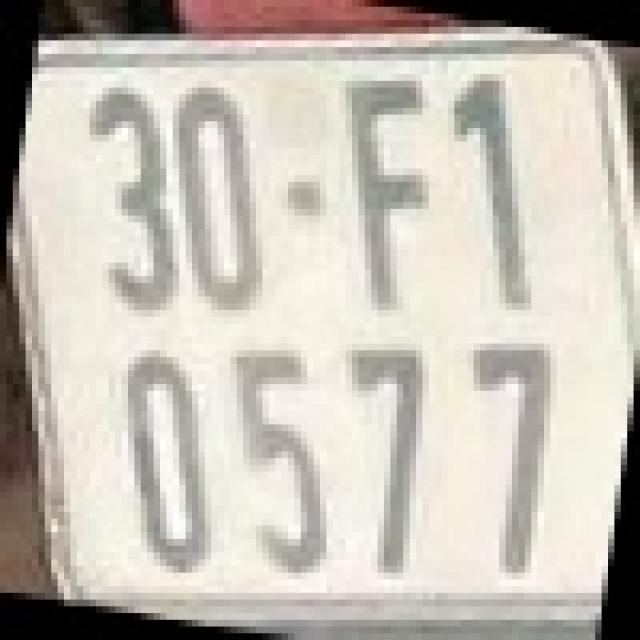0: (122, 350, 211, 573), (180, 80, 262, 316)
1: (448, 74, 538, 310)
3: (83, 87, 179, 310)
5: (230, 350, 333, 573)
7: (467, 343, 557, 580), (346, 343, 428, 572)
F: (339, 74, 435, 310)
